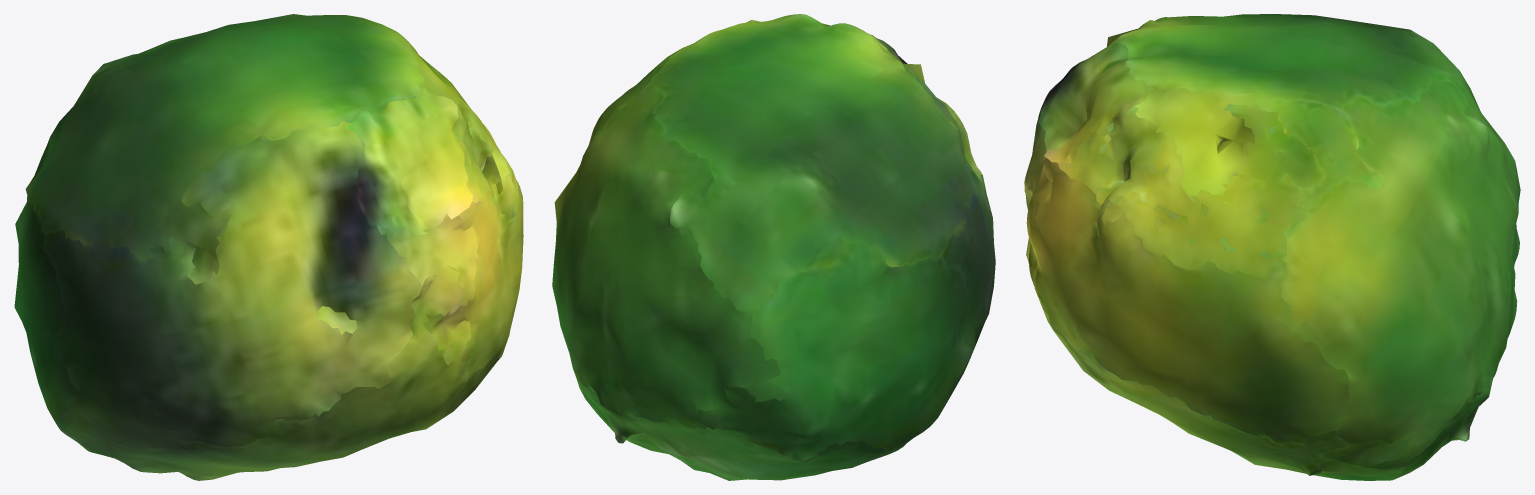
The model's file is 0_apple.glb.
3 views of the same model, side by side, from view 1: azimuth 30°, elevation 25°; view 2: azimuth 150°, elevation 25°; view 3: azimuth 270°, elevation 25° (orthographic). The views are drawn at different scales.
Visible parts, largest first — view 1: 0_apple; view 2: 0_apple; view 3: 0_apple.
Boxes of the visible parts, x1=… form: 0_apple: x1=14, y1=14, x2=523, y2=480; 0_apple: x1=552, y1=14, x2=995, y2=480; 0_apple: x1=1024, y1=14, x2=1520, y2=480.
Size of the model in its own units: 0.0937 by 0.0881 by 0.0951.
Materials: 1 (1 with a texture image).
